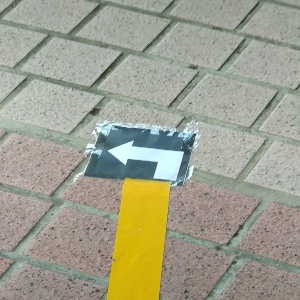left: (84, 121, 199, 186)
